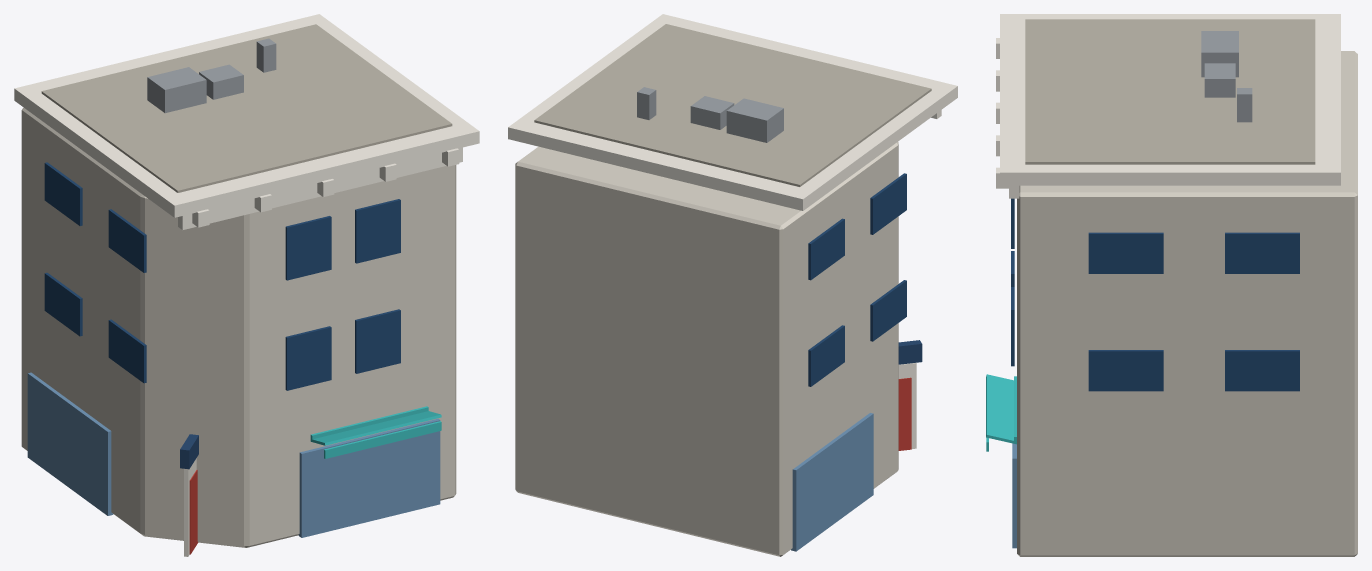
File: corner_w10_f3.glb
3 views of the same model, side by side, from view 1: azimuth 30°, elevation 25°; view 2: azimuth 150°, elevation 25°; view 3: azimuth 270°, elevation 25° (orthographic). The views are drawn at different scales.
Parts seen in each view (by area): view 1: lwalls, roofslab, corn, shopf, shops, frieze, win, win.002, win.001, win.003, hvac, sb.002 (+10 smaller); view 2: lwalls, roofslab, corn, shops, hvac, sb.002, sb.004, sb, sb.006, hvac2, cdoor, cfr (+2 smaller); view 3: lwalls, roofslab, corn, sb.001, sb.005, sb.003, sb.007, awn, hvac, hvac2, pipe, shopf.
Part boxes in pixels (<box>): lwalls: <box>21,107,456,547</box>; roofslab: <box>41,24,452,192</box>; corn: <box>14,14,479,217</box>; shopf: <box>298,418,440,537</box>; shops: <box>27,372,113,515</box>; frieze: <box>178,147,462,229</box>; win: <box>285,326,331,390</box>; win.002: <box>285,216,331,280</box>; win.001: <box>355,309,400,373</box>; win.003: <box>355,199,400,263</box>; hvac: <box>147,67,206,113</box>; sb.002: <box>44,272,82,336</box>; lwalls: <box>515,142,898,556</box>; roofslab: <box>534,24,931,186</box>; corn: <box>508,14,957,210</box>; shops: <box>791,413,873,551</box>; hvac: <box>726,98,783,142</box>; sb.002: <box>808,325,844,386</box>; sb.004: <box>870,173,906,234</box>; sb: <box>870,280,906,341</box>; sb.006: <box>808,218,844,280</box>; hvac2: <box>690,96,734,129</box>; cdoor: <box>898,377,911,450</box>; cfr: <box>898,362,916,448</box>; lwalls: <box>1017,51,1357,556</box>; roofslab: <box>1025,19,1315,164</box>; corn: <box>1000,14,1340,185</box>; sb.001: <box>1088,350,1163,391</box>; sb.005: <box>1088,232,1163,273</box>; sb.003: <box>1225,350,1299,391</box>; sb.007: <box>1225,232,1299,273</box>; awn: <box>986,374,1016,444</box>; hvac: <box>1201,31,1238,77</box>; hvac2: <box>1204,63,1235,97</box>; pipe: <box>1237,88,1252,122</box>; shopf: <box>1012,443,1016,548</box>.
Bounding box in the file's own units: 11 × 13.7 × 10.91.
